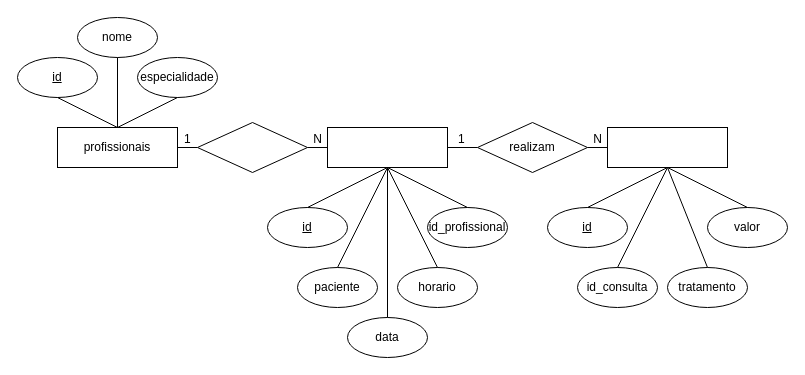
Some shapes in this 805 by 375 pixel diagram are drawn without their labels. Here are the shapes that lost their labels. From the top down, the centre of each, then its label:
At (x=252, y=147): "prestam".
At (x=387, y=147): "consultas".
At (x=667, y=147): "tratamentos".
